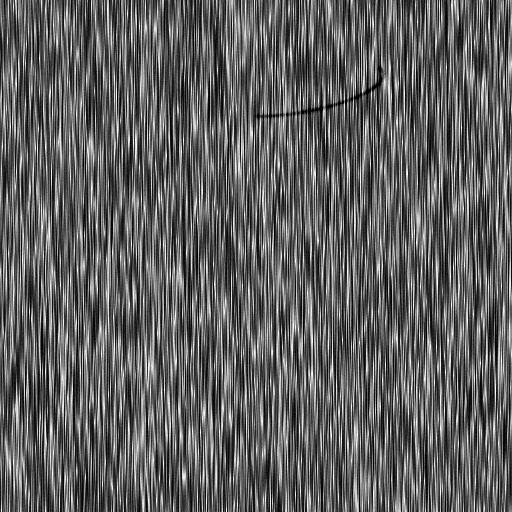DefectTypeC: (253, 67, 384, 119)
